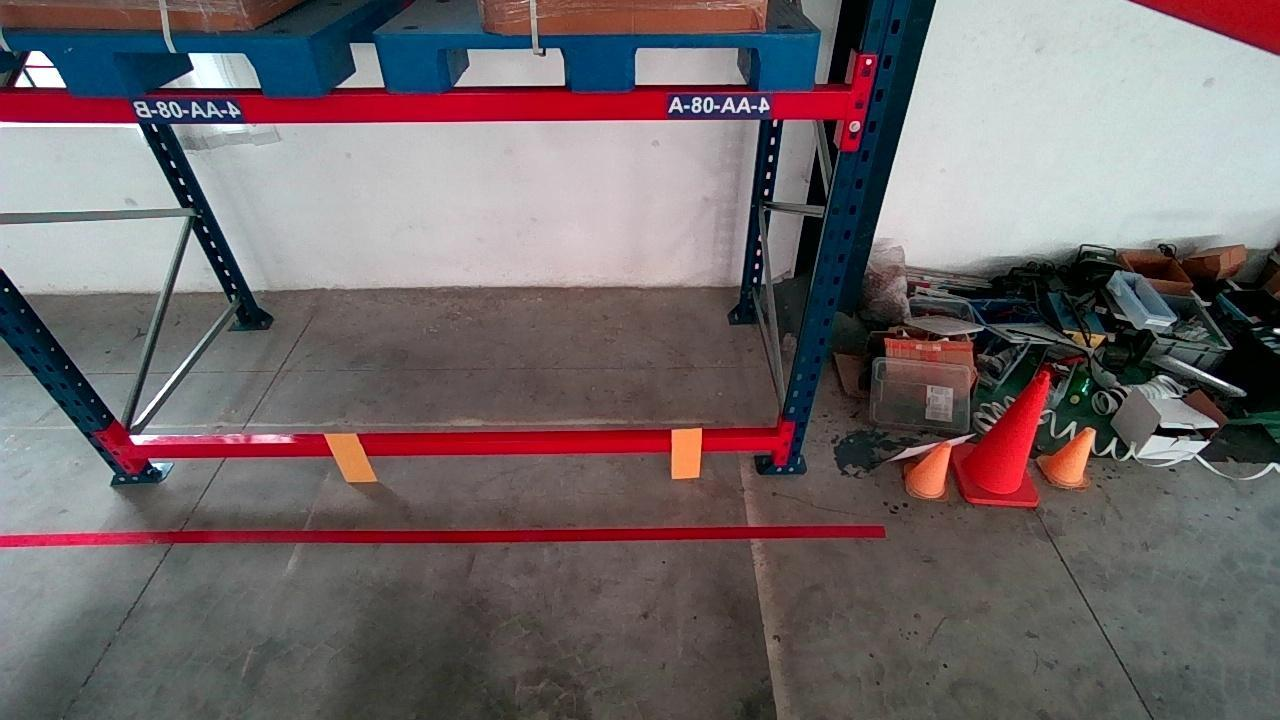h_rack: (0, 88, 856, 124), (125, 439, 777, 459)
orange_strip: (326, 431, 375, 482), (671, 425, 704, 478)
red_line: (0, 524, 889, 549)
small_pallet: (386, 31, 820, 89), (0, 36, 317, 96)
